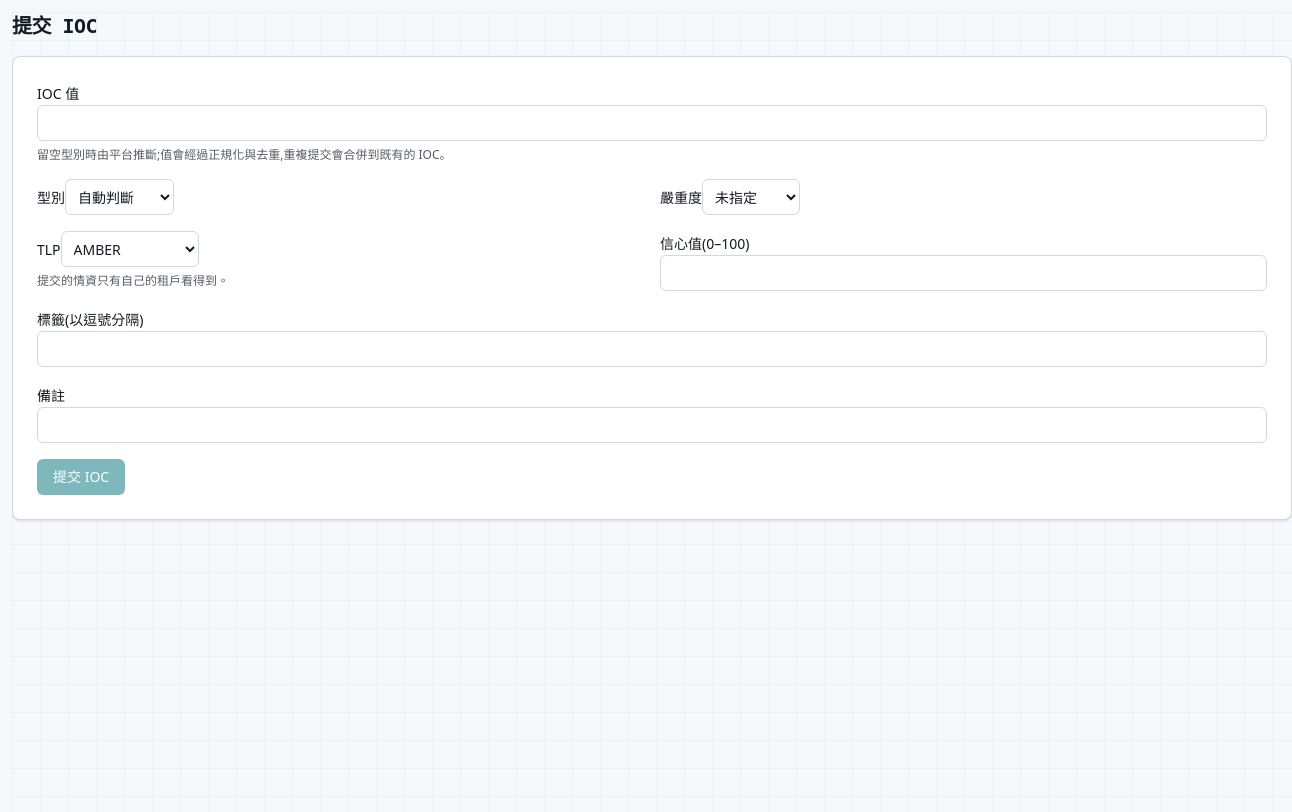
Scenario: IocSubmitPage › 方案不允許提交時說明要升級,而不是丟出原始錯誤碼
The image size is (1292, 812).
Type "203.0.113.6" into the field labelled "IOC 值" at coordinates (652, 123), box 37,105 -> 1267,141
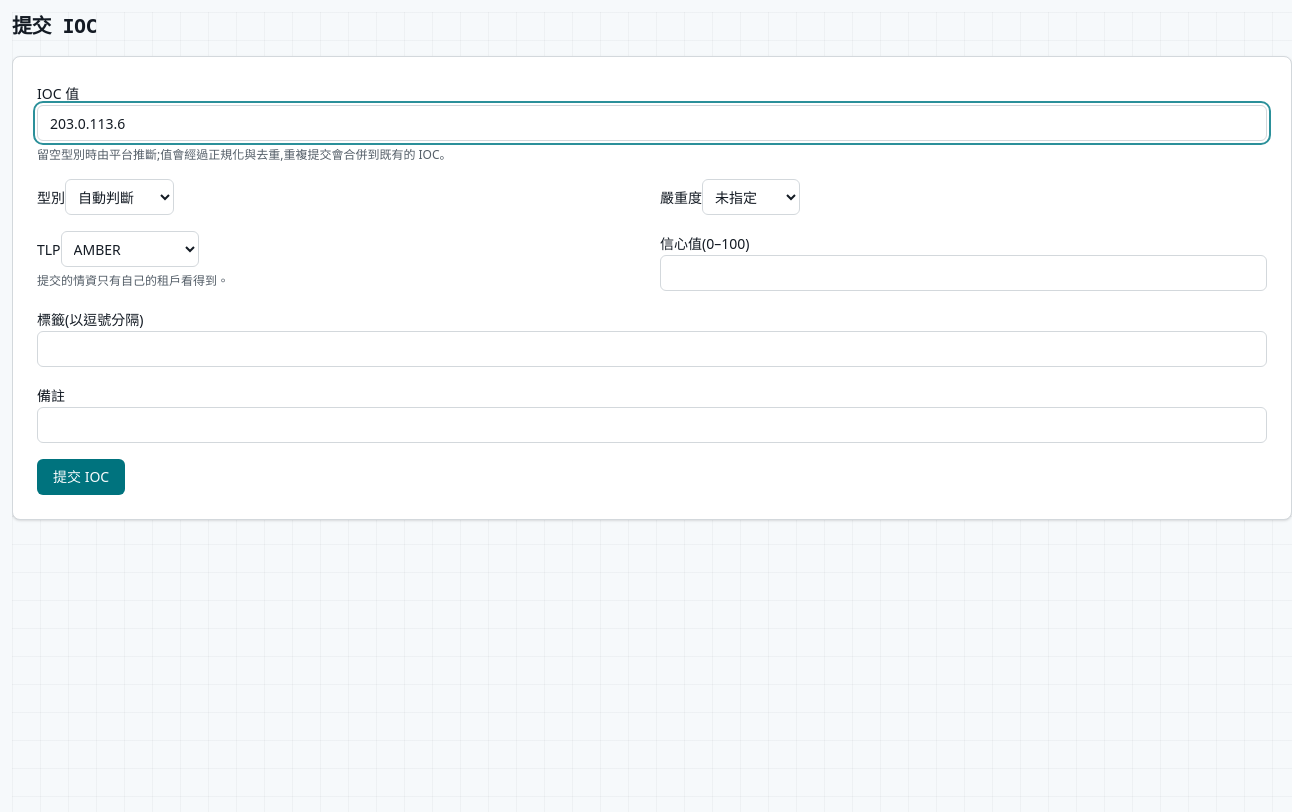
Click the button "提交 IOC" at coordinates (81, 477), box 37,459 -> 125,495
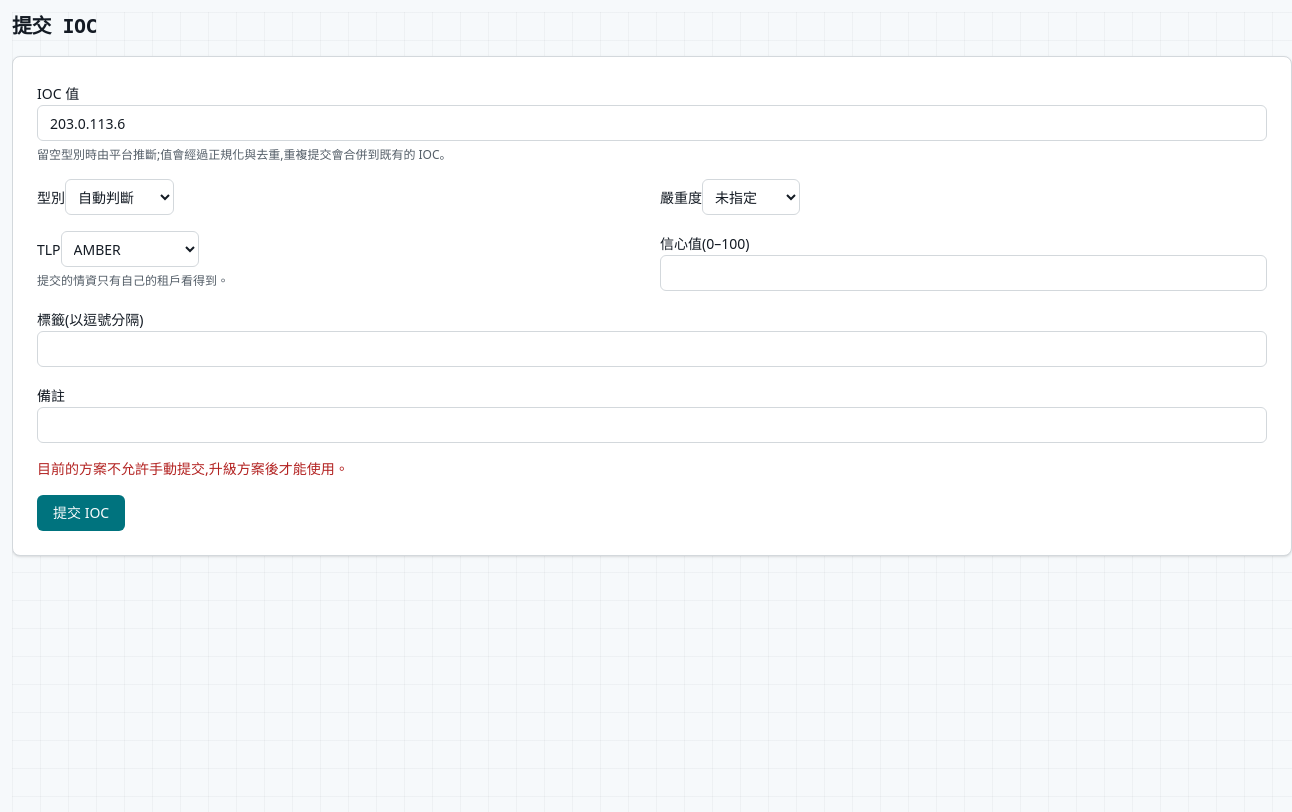
Now the message shows "升級方案", box 37,459 -> 349,478
